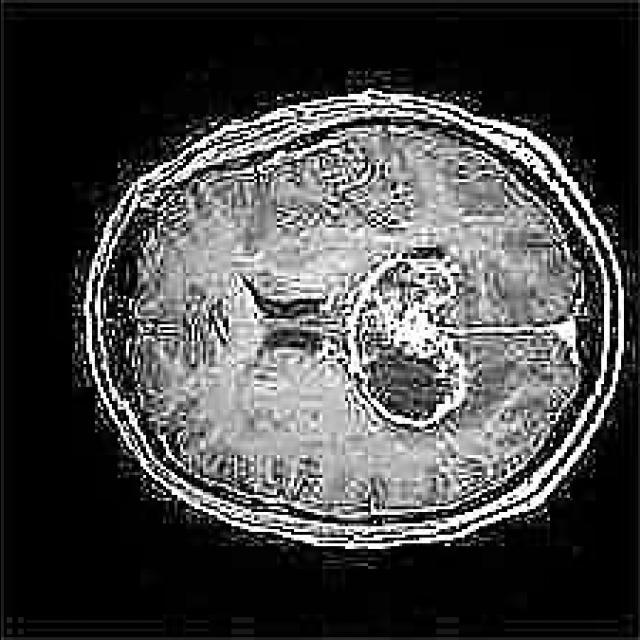tumor: (338, 245, 466, 432)
